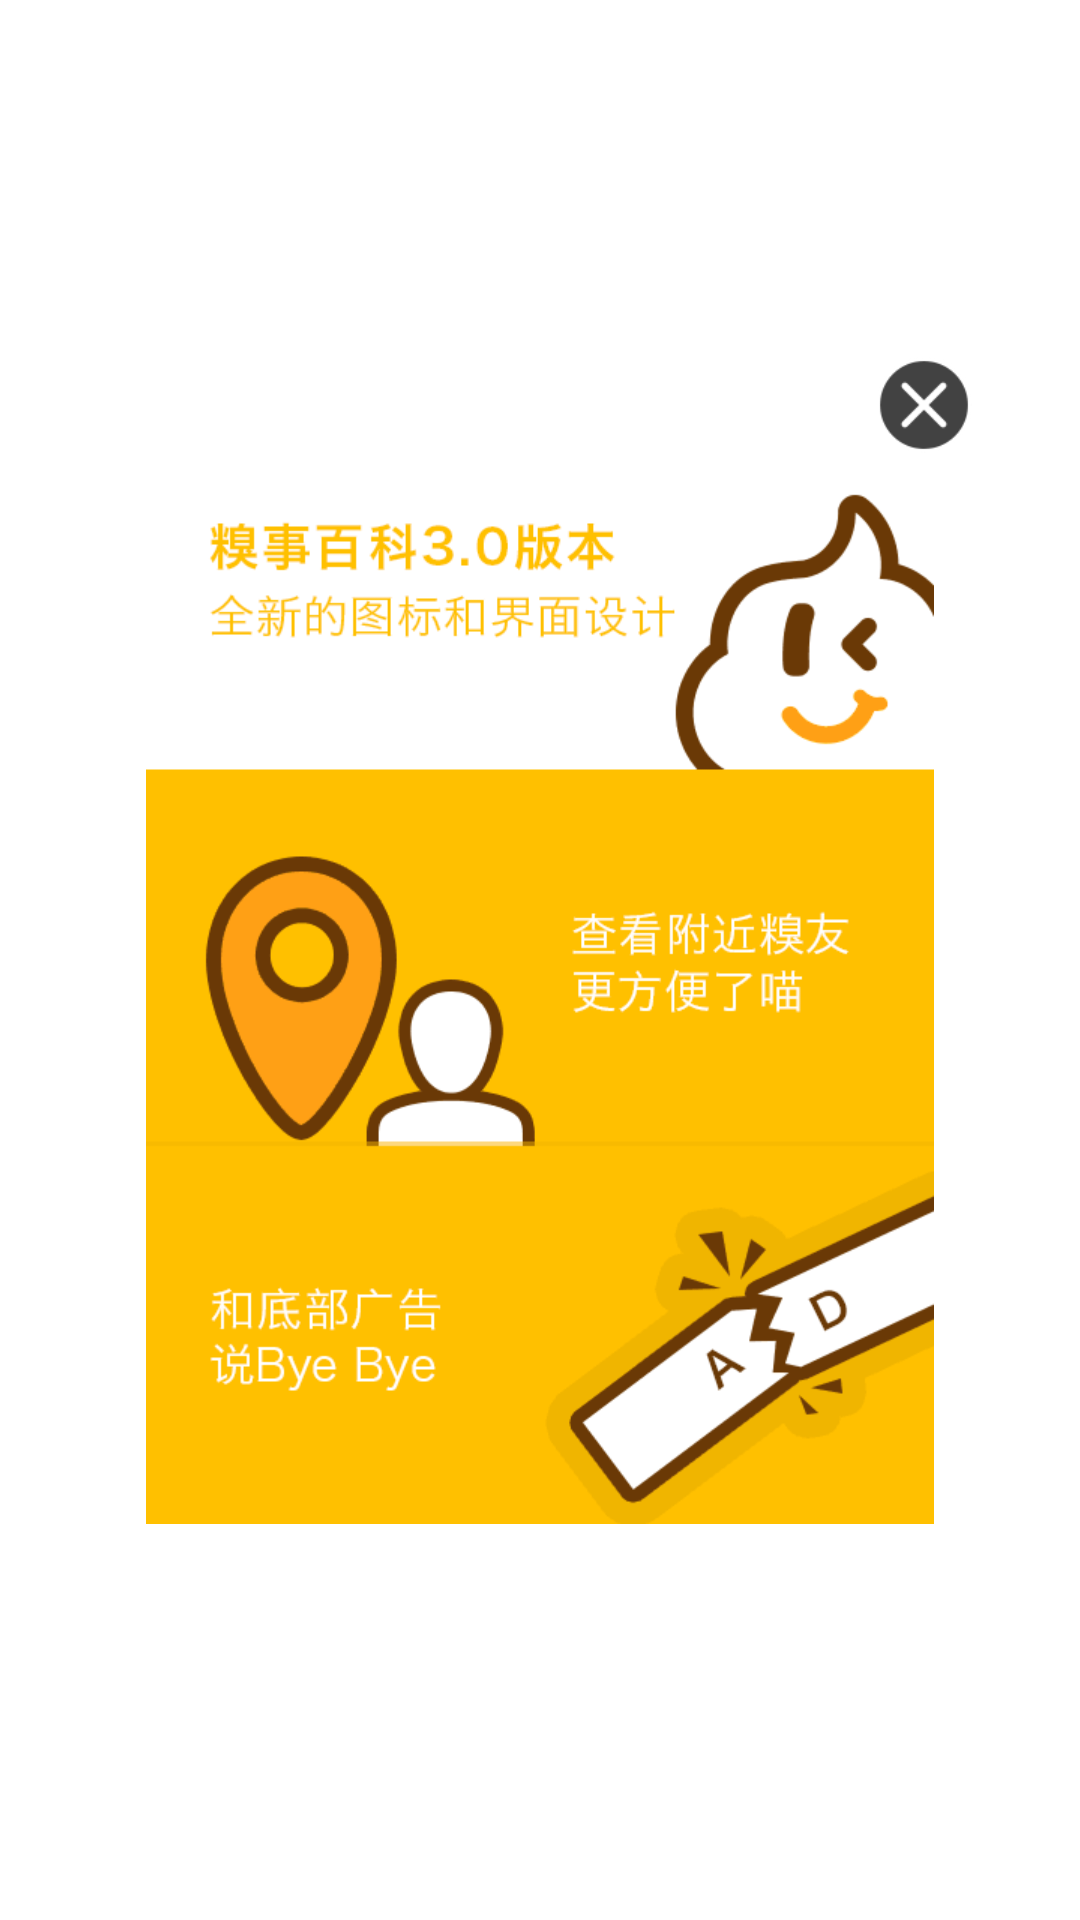

Named icons in this screenshot (1080w x 1920h) and their bounding boxes, BBox(x1, y1, x2, y2):
delete: BBox(880, 361, 968, 449)
